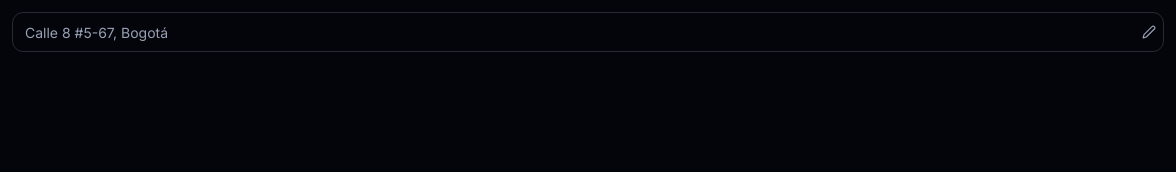
AddressAutocomplete › al tipear muestra sugerencias después de debounce
In the field: {"x": 588, "y": 32} [12,12,1164,52], type "Calle 8"
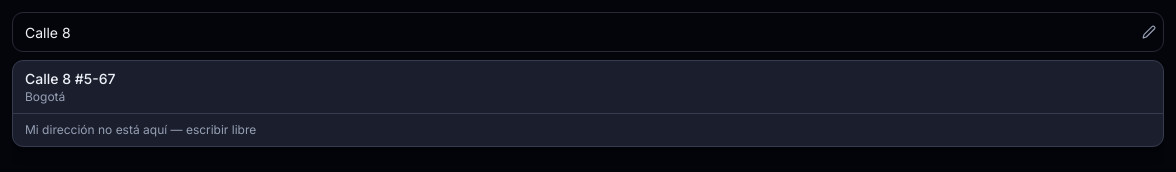
Check: the text "Calle 8 #5-67" is shown, box [25,70,116,87]
